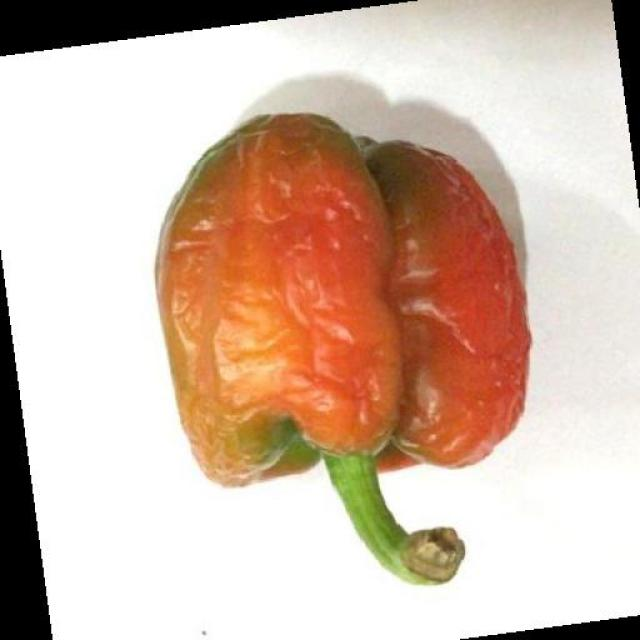Stale_Capsicum: (149, 73, 490, 604)
